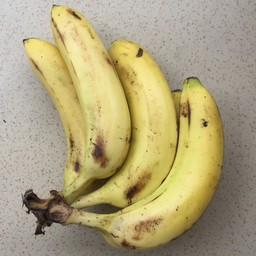Banana Ripe: (82, 23, 183, 250), (141, 28, 232, 256), (50, 8, 124, 194), (18, 28, 85, 203)
